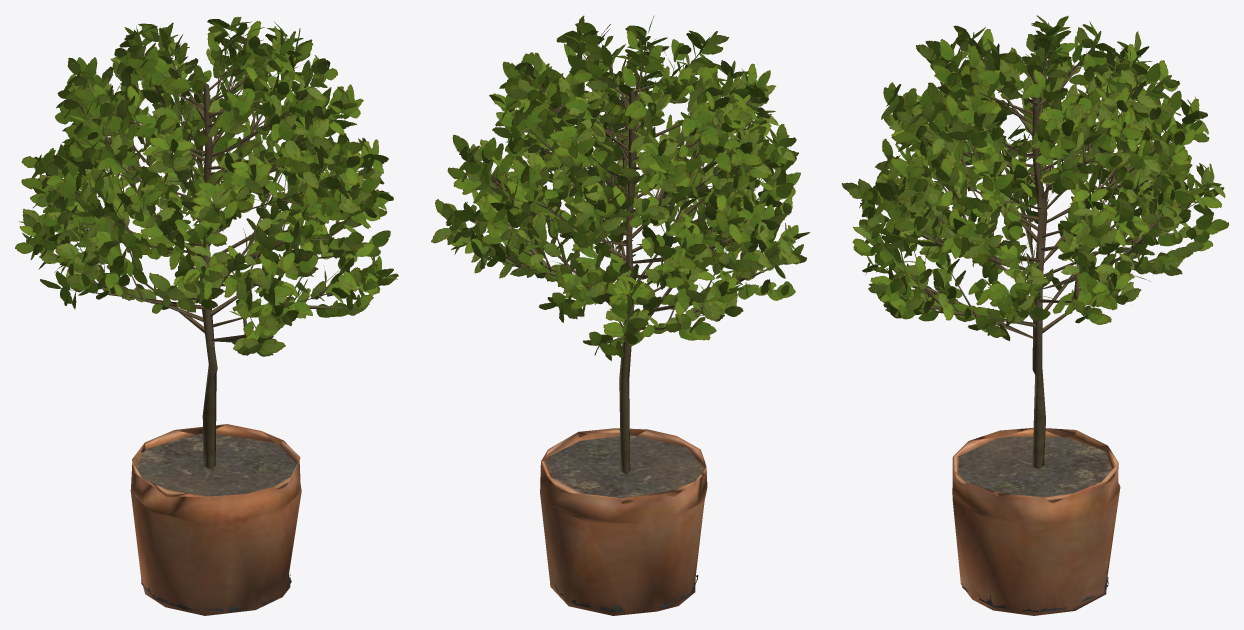
File: cargo_potted_tree_c.glb
The picture shows the model from 3 angles, left to right: view 1: azimuth 30°, elevation 25°; view 2: azimuth 150°, elevation 25°; view 3: azimuth 270°, elevation 25°; orthographic projection.
Visible parts, largest first — view 1: KB3D_JPN_PropPottedTree_C_Main; view 2: KB3D_JPN_PropPottedTree_C_Main; view 3: KB3D_JPN_PropPottedTree_C_Main.
Boxes of the visible parts, x1=… form: KB3D_JPN_PropPottedTree_C_Main: x1=15, y1=16, x2=398, y2=615; KB3D_JPN_PropPottedTree_C_Main: x1=431, y1=15, x2=809, y2=615; KB3D_JPN_PropPottedTree_C_Main: x1=841, y1=15, x2=1228, y2=615.
Size of the model in its own units: 1.17 by 1.84 by 1.2.
4 materials, 4 textured.
